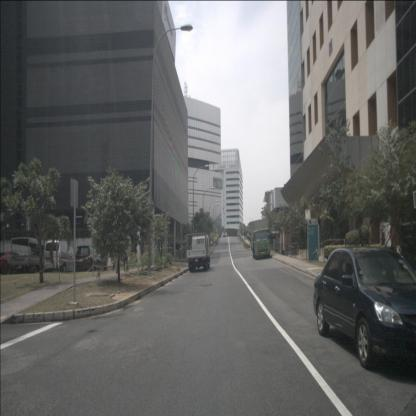human-pedestrian-adult: (122, 237, 128, 272), (160, 241, 162, 261), (171, 243, 173, 255)
vehicle-car: (313, 246, 416, 370), (43, 240, 78, 274), (73, 245, 107, 273), (0, 251, 25, 275)
vehicle-truck: (10, 237, 52, 274), (186, 233, 210, 273), (249, 218, 271, 260)
